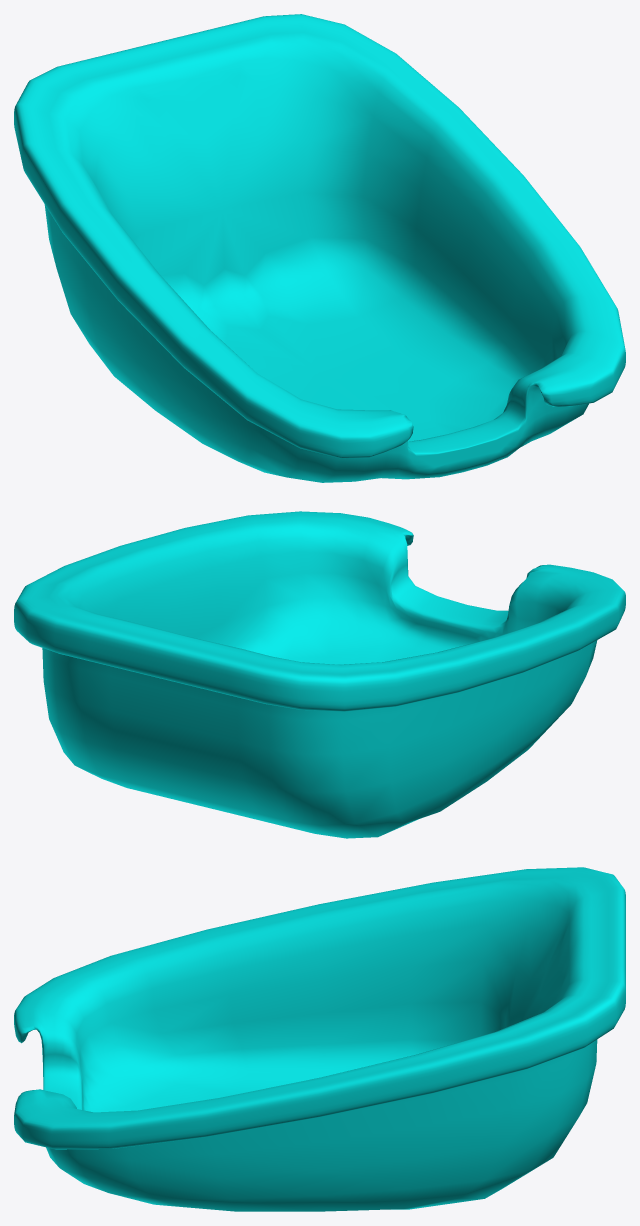
File: Litter_box_fbx.fbx
3 renders of one model, top to bottom at view 1: azimuth 30°, elevation 25°; view 2: azimuth 150°, elevation 25°; view 3: azimuth 270°, elevation 25°, orthographic. The views are drawn at different scales.
Parts seen in each view (by area): view 1: box; view 2: box; view 3: box.
Boxes of the visible parts, x1,y1,x2,y2 form: box: (14,14,625,482); box: (14,511,625,838); box: (14,867,625,1211).
Size of the model in its own units: 1.09 by 0.5572 by 1.49.
